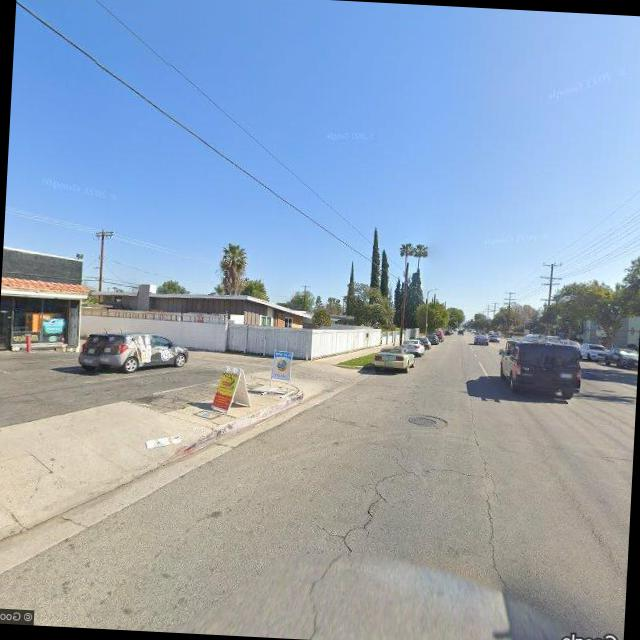crack: (306, 452, 443, 635), (460, 410, 528, 602)
